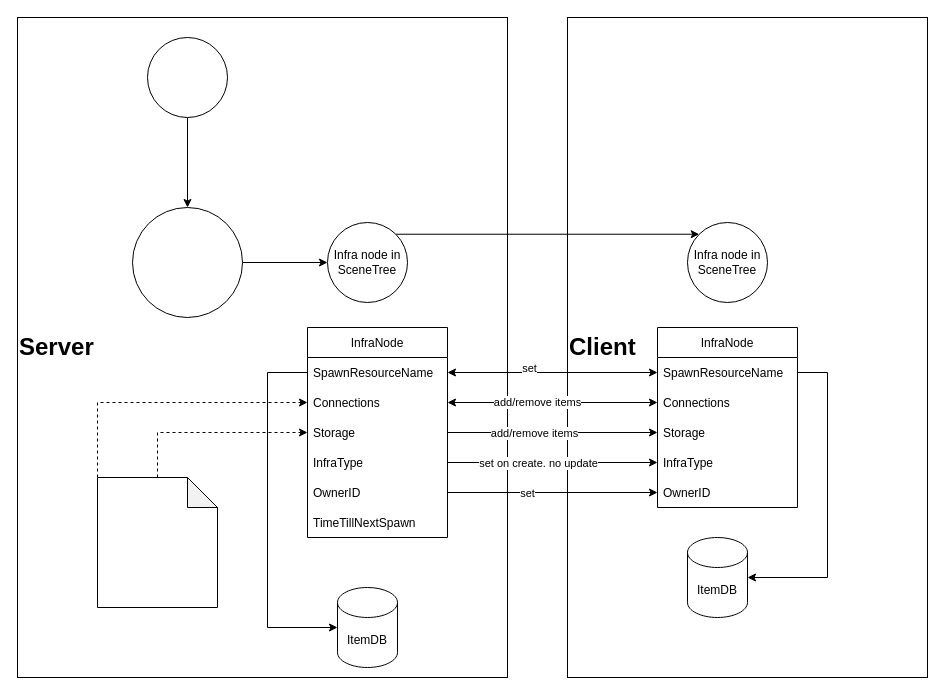
The diagram is 945 pixels wide and 695 high, and some of its shapes have lost their labels. The shapes that lost their labels are listed below. From the top down, each one's centre as x and y in pixels, then its label:
At point (187, 77): "File".
At point (187, 262): "Resource represents tile infrastructure".
At point (157, 542): "Always starts empty. Only updates must be synced".
